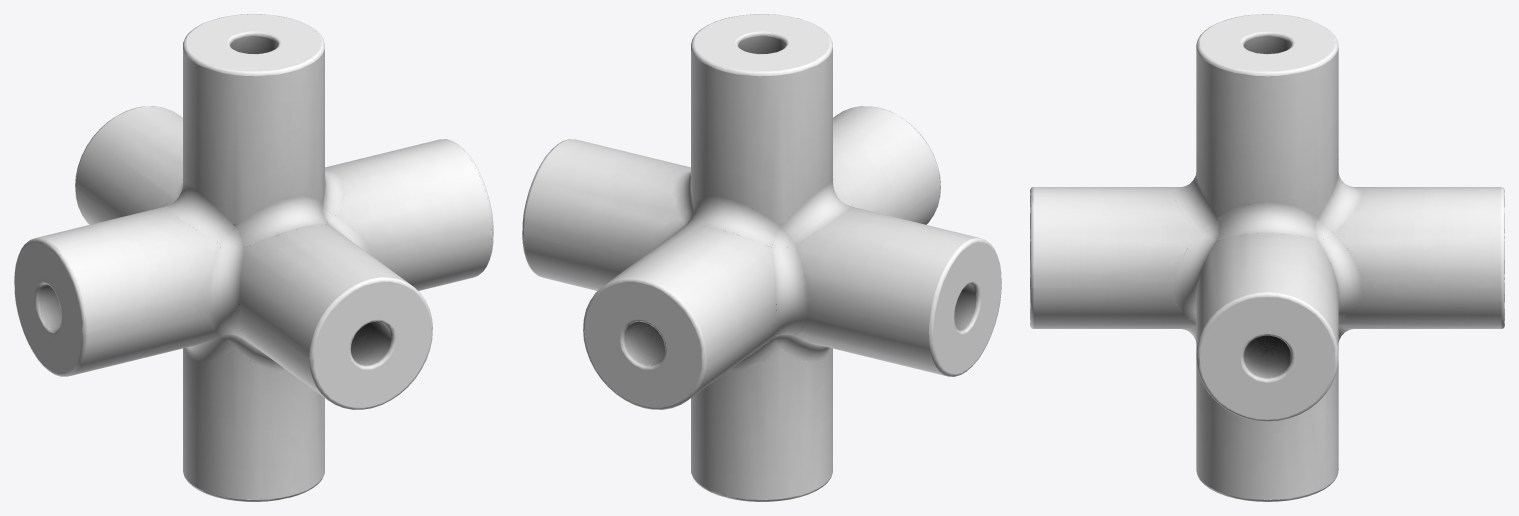
The model's file is connector.glb.
The picture shows the model from 3 angles, left to right: view 1: azimuth 30°, elevation 25°; view 2: azimuth 150°, elevation 25°; view 3: azimuth 270°, elevation 25°; orthographic projection.
Visible parts, largest first — view 1: connector; view 2: connector; view 3: connector.
Boxes of the visible parts, x1,y1,x2,y2 form: connector: (14, 14, 493, 501); connector: (522, 14, 1001, 501); connector: (1030, 14, 1504, 501).
Size of the model in its own units: 2.54 by 2.54 by 2.54.
Materials: 1 (1 with a texture image).
